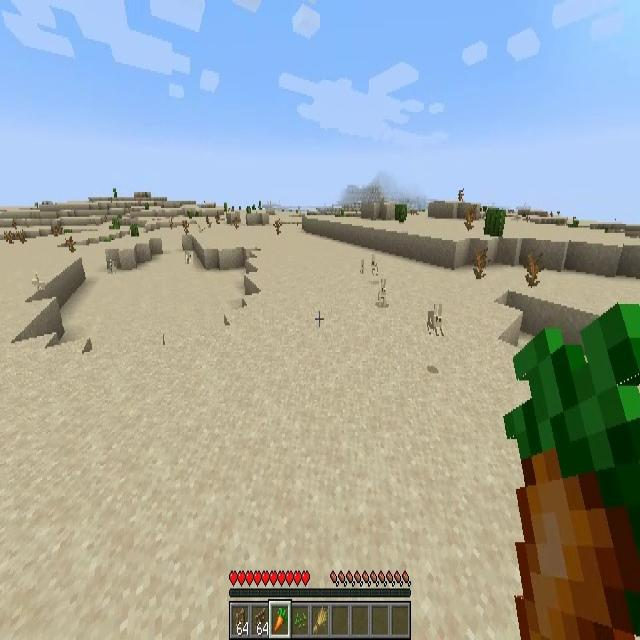rabbit: (427, 303, 445, 338), (31, 274, 46, 292), (377, 281, 387, 307), (371, 254, 378, 276), (107, 261, 117, 274), (185, 252, 193, 266), (361, 260, 365, 276)
